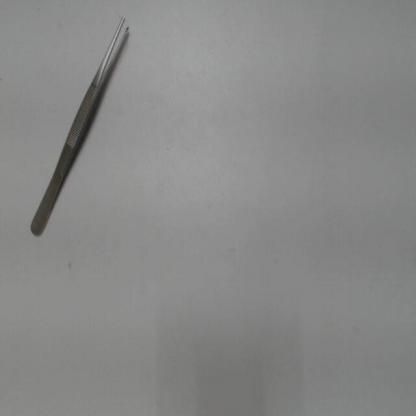Gillies Toothed Dissector: (22, 13, 134, 244)
